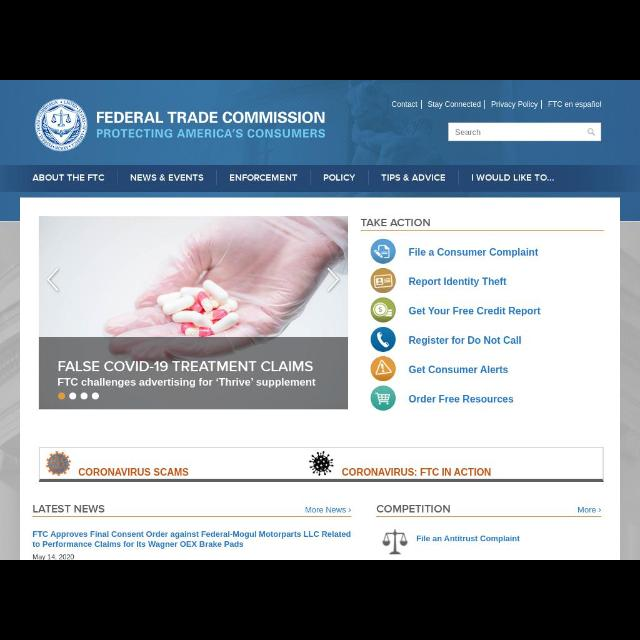icon: (46, 264, 62, 294), (327, 265, 341, 293), (587, 128, 597, 136), (597, 506, 603, 514), (348, 508, 352, 514)
image: (39, 215, 349, 408), (31, 96, 91, 152), (380, 528, 410, 556), (368, 297, 398, 323), (369, 268, 398, 294), (370, 237, 398, 263), (369, 326, 397, 352), (368, 356, 398, 380), (308, 449, 334, 476), (370, 386, 398, 410), (45, 451, 71, 475)
input: (448, 121, 602, 143)
link: (32, 530, 352, 550), (408, 246, 540, 258), (408, 392, 516, 406), (408, 275, 510, 289), (408, 363, 509, 377), (408, 334, 524, 346), (409, 306, 543, 316), (416, 534, 522, 544), (305, 506, 345, 514), (578, 506, 596, 512)
multitab: (1, 166, 639, 190)
pageindicator: (57, 390, 101, 400)
text: (95, 108, 327, 140), (341, 465, 493, 479), (78, 465, 192, 477), (469, 172, 555, 184), (360, 217, 432, 230), (380, 171, 446, 183), (130, 172, 206, 182), (31, 172, 105, 182), (31, 504, 105, 514), (228, 172, 298, 182), (548, 99, 600, 109), (490, 99, 540, 109), (428, 100, 480, 108), (322, 173, 358, 181), (34, 553, 74, 559), (455, 128, 483, 136), (392, 100, 418, 108)
toolbar: (1, 82, 639, 164)
